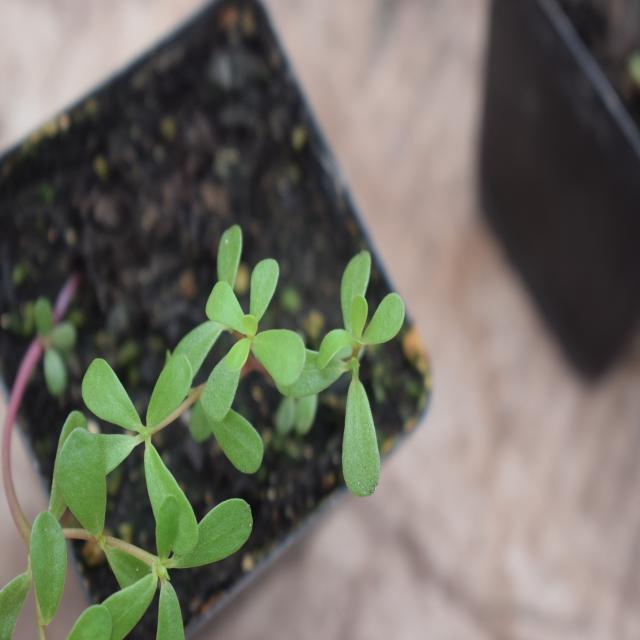purslane: (0, 250, 403, 590)
